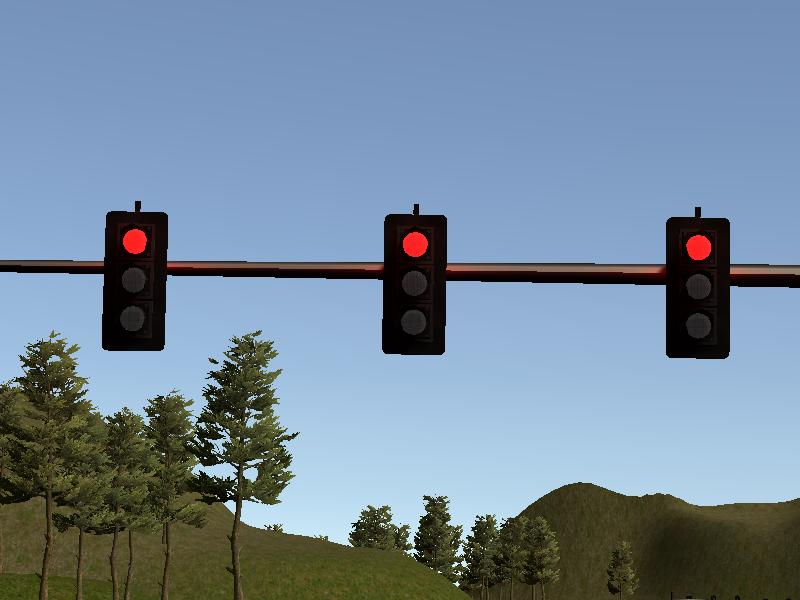Red: (667, 217, 727, 359), (385, 215, 445, 355), (105, 211, 162, 351)
